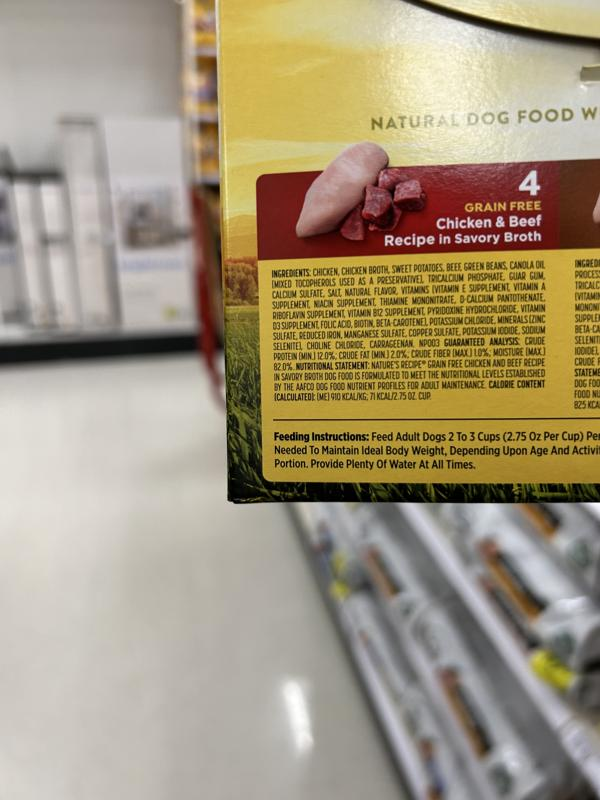ingredients: (269, 258, 546, 403)
